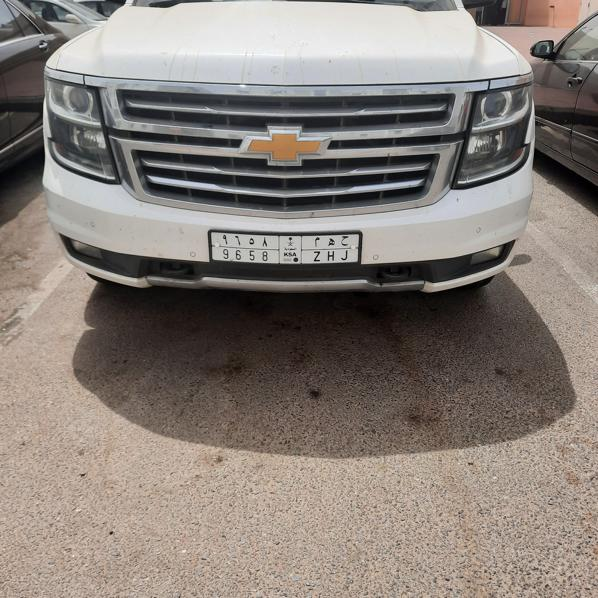numberplate: (205, 230, 364, 264)
